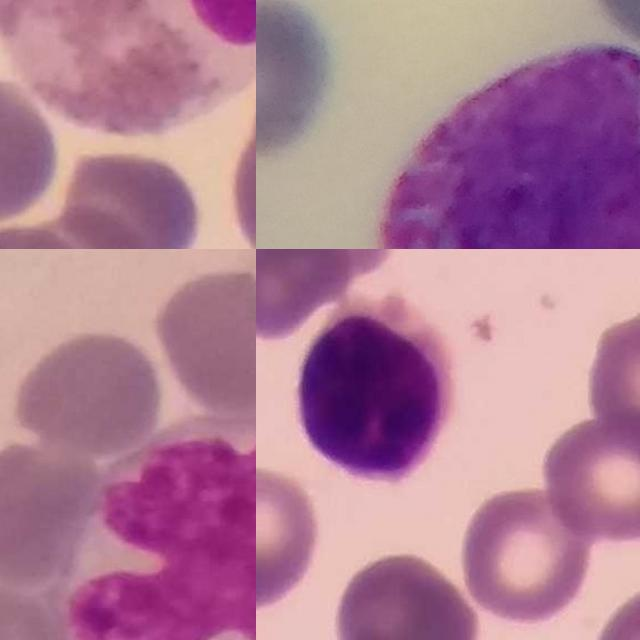Basophil: (377, 37, 640, 249)
Eosinophil: (0, 0, 256, 141)
Lymphocyte: (294, 291, 458, 486)
Monocyte: (68, 417, 256, 640)
